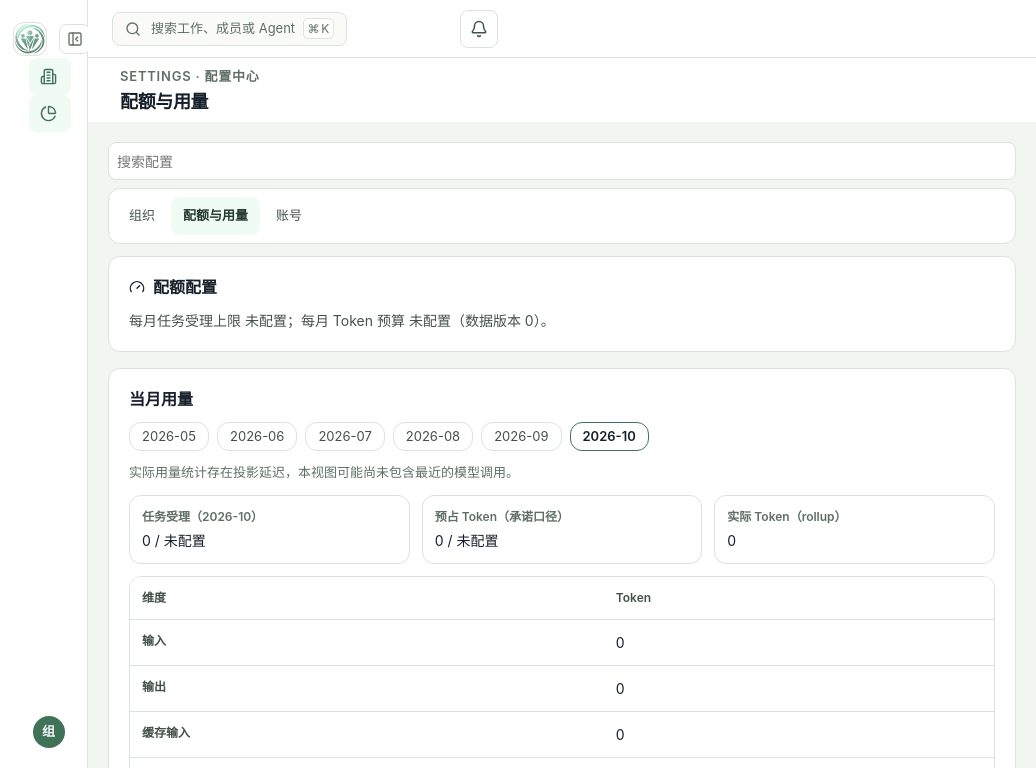
Test: QuotaSettingsPage › navigates months through the URL and loads the navigated month on demand
The image size is (1036, 768).
Step 1. Click the button "2026-07" → (345, 436), box [305,422,385,451]
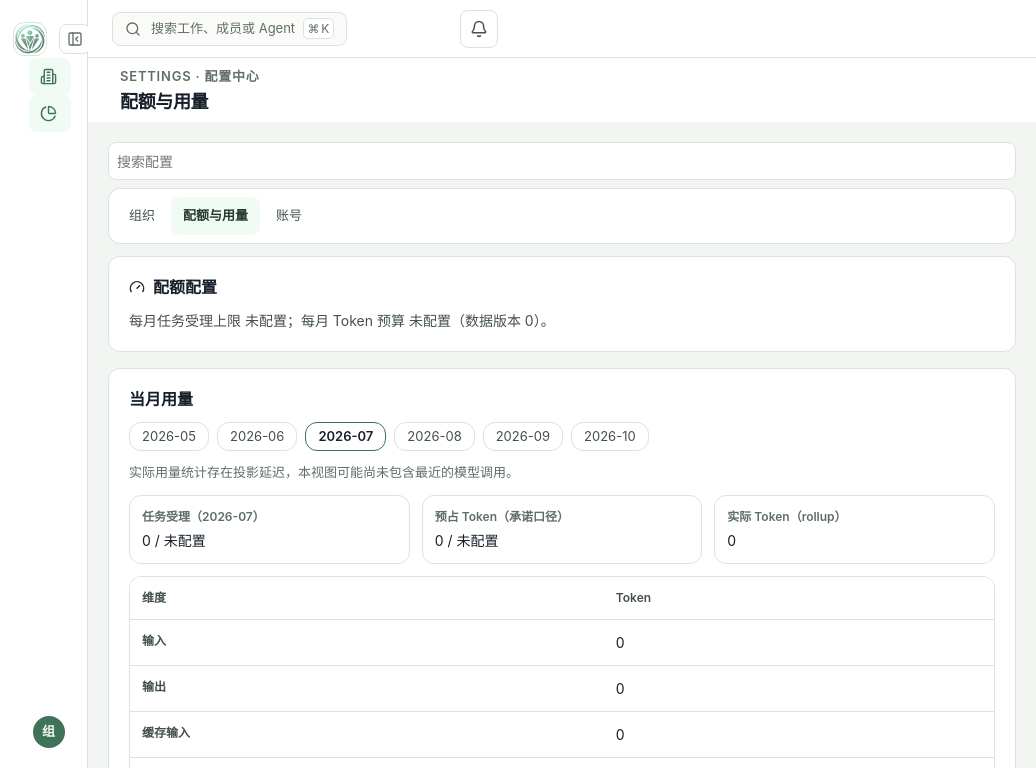
Result: the text "任务受理（2026-07）" is shown at [142,509,265,524]
